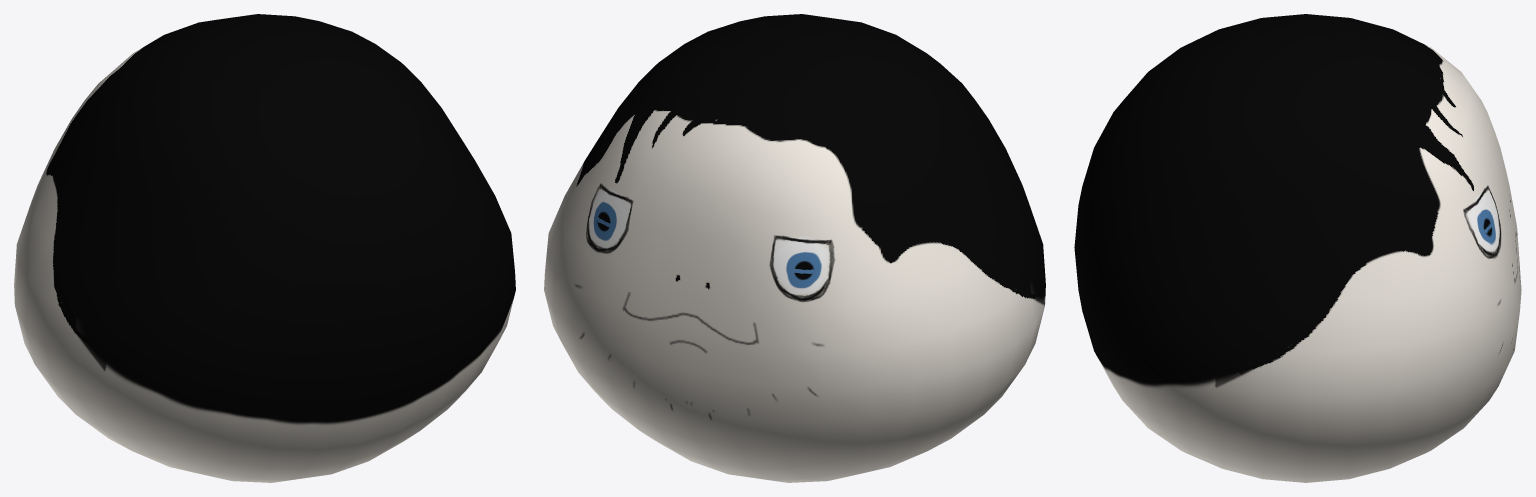
Rendered from Shinri_simple_head.fbx.
3 views of the same model, side by side, from view 1: azimuth 30°, elevation 25°; view 2: azimuth 150°, elevation 25°; view 3: azimuth 270°, elevation 25° (orthographic).
Parts seen in each view (by area): view 1: Head; view 2: Head; view 3: Head.
Part boxes in pixels (left/top/right/bottom): Head: left=14, top=14, right=515, bottom=482; Head: left=544, top=14, right=1045, bottom=482; Head: left=1074, top=14, right=1521, bottom=482.
Bounding box in the file's own units: 383 × 347 × 335.
